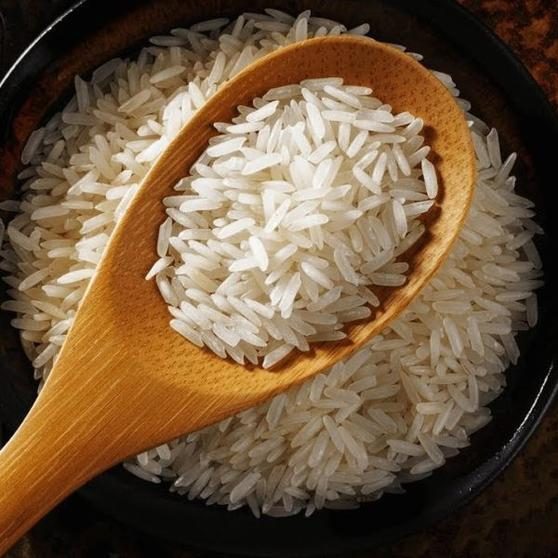rice: (121, 61, 453, 382)
